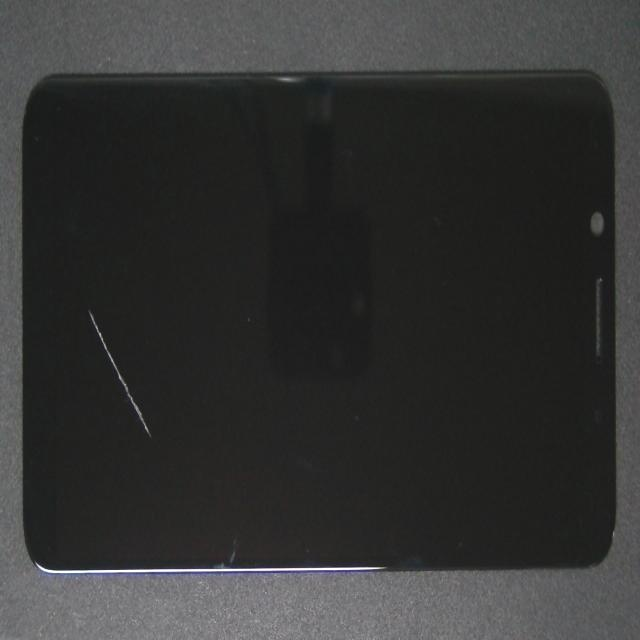scratch: (118, 279, 204, 575)
